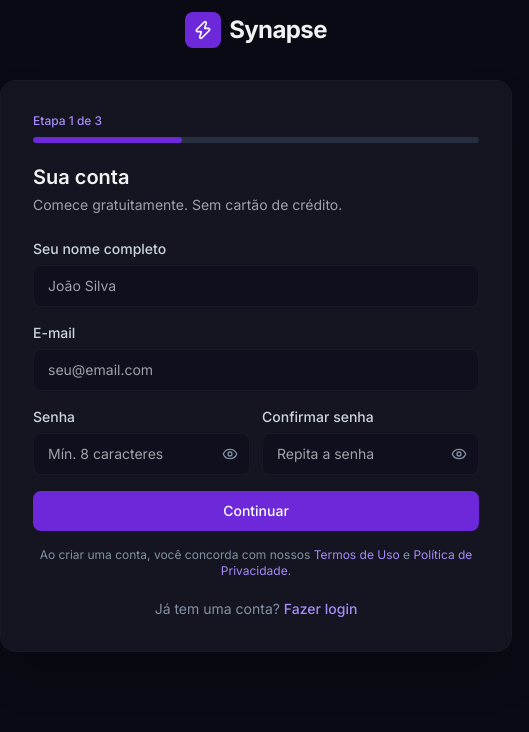
Test: Cadastro em 3 etapas › não avança da etapa 1 sem preencher os campos
expect the text "Etapa 1 de 3" is shown: met, box [33,113,102,129]
Click the button "Continuar" at [256, 511], box [33,491,479,531]
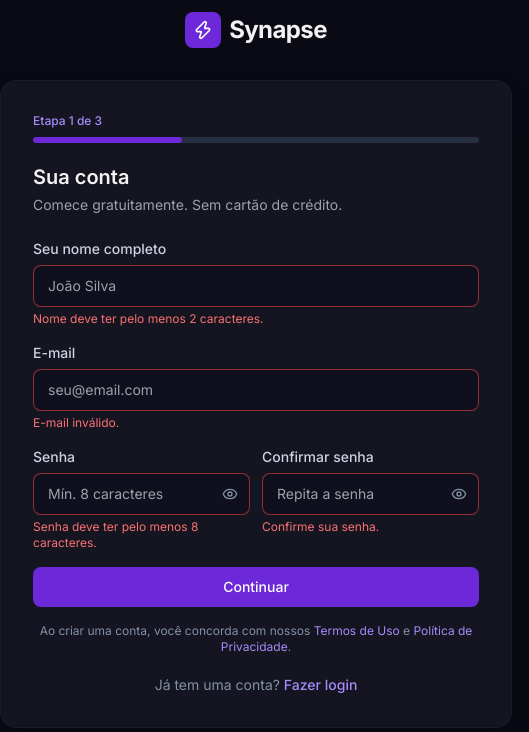
expect the text "Etapa 1 de 3" is shown: met, box [33,113,102,129]
expect the text "E-mail inválido." is shown: met, box [33,415,119,430]
